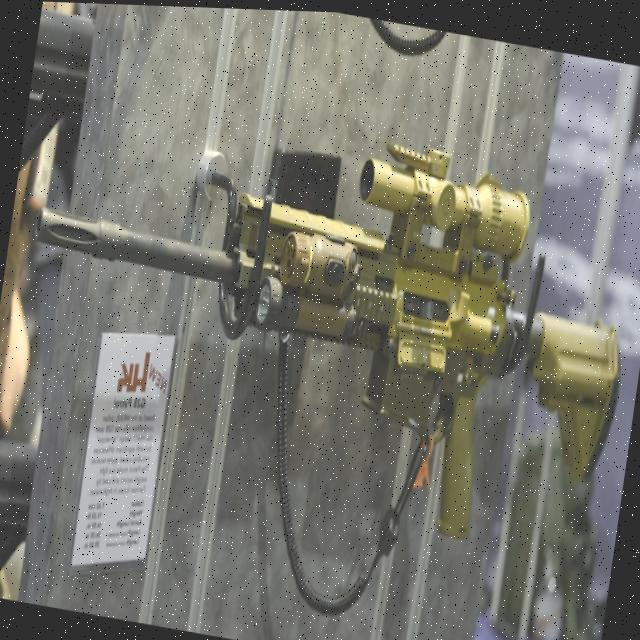firearm: (0, 71, 640, 564)
